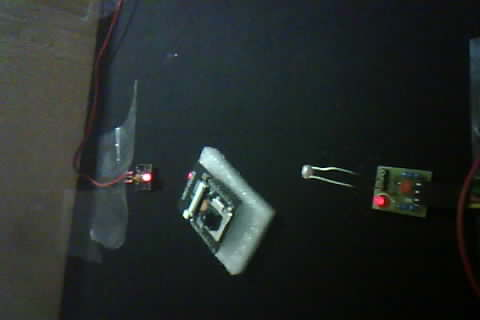esp32: (170, 157, 251, 264)
